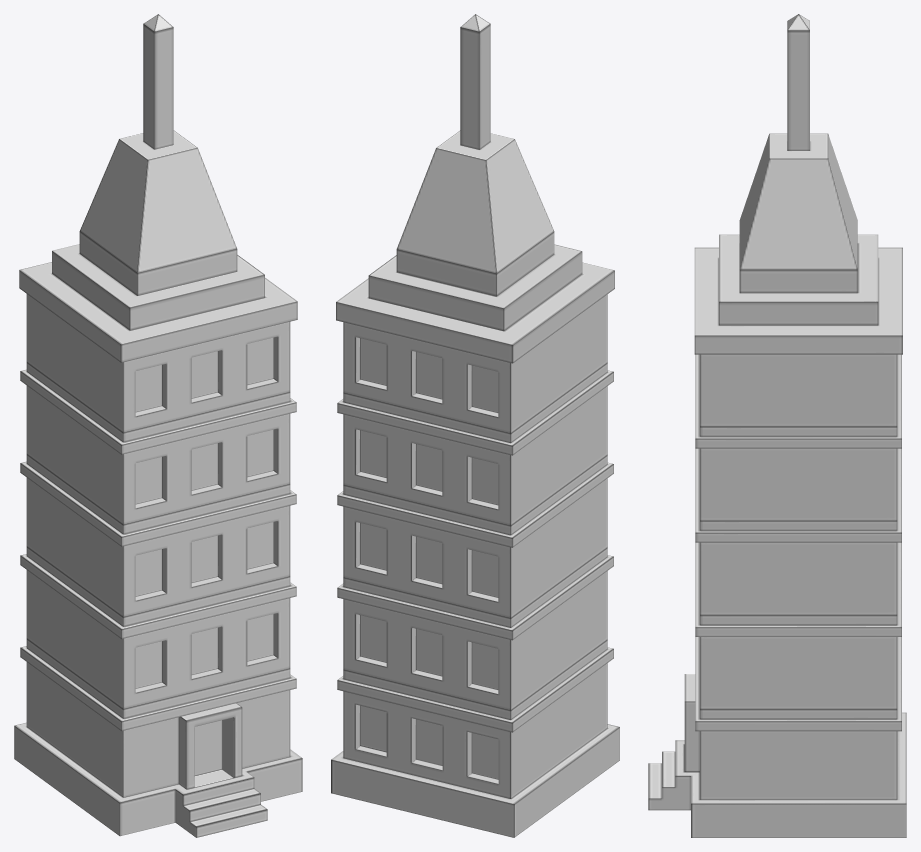
File: Building-02.fbx
3 renders of one model, left to right at view 1: azimuth 30°, elevation 25°; view 2: azimuth 150°, elevation 25°; view 3: azimuth 270°, elevation 25°, orthographic. The views are drawn at different scales.
Visible parts, largest first — view 1: Building_02; view 2: Building_02; view 3: Building_02.
Boxes of the visible parts, x1=… form: Building_02: x1=14, y1=14, x2=302, y2=837; Building_02: x1=331, y1=14, x2=619, y2=837; Building_02: x1=648, y1=14, x2=906, y2=837.
Bounding box in the file's own units: 2.98 × 11.87 × 3.57.
